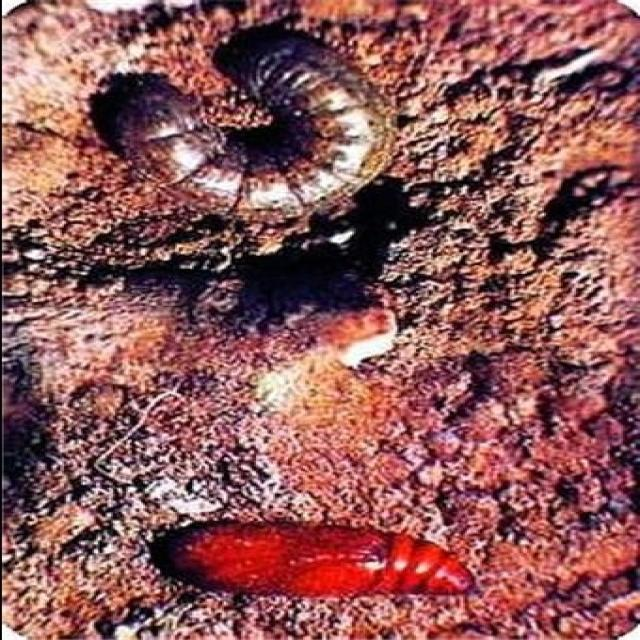black cutworm: (89, 27, 407, 229), (156, 509, 491, 607)
